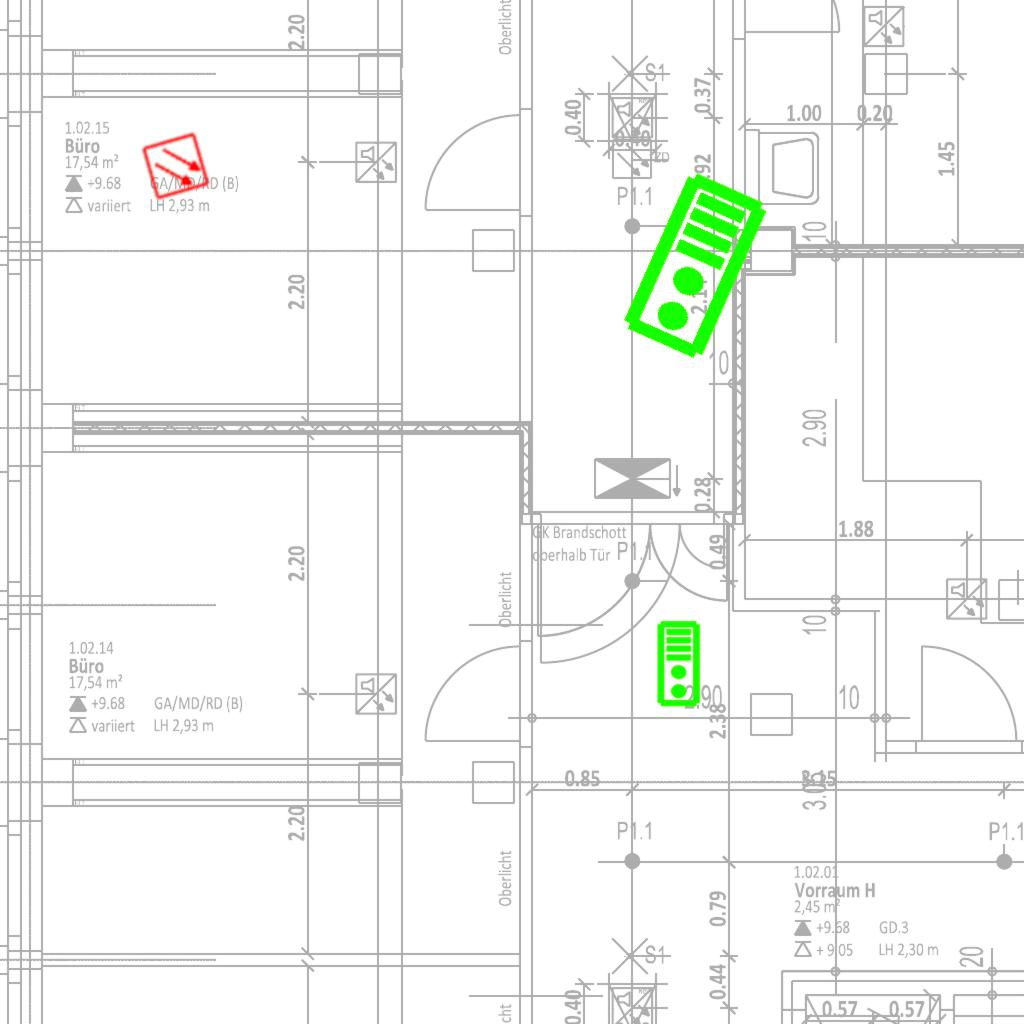Gegensprechanlage_mit_Video: (617, 167, 776, 367), (656, 620, 703, 708)
RMO_Rauchmelder_optischer: (141, 131, 211, 201)
